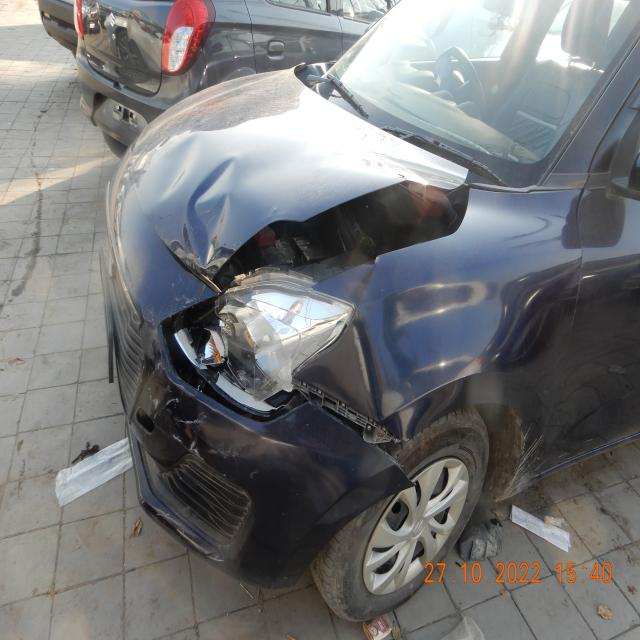damage: (135, 133, 474, 268), (165, 285, 286, 409), (381, 280, 505, 377), (290, 372, 399, 461), (152, 391, 242, 470)
